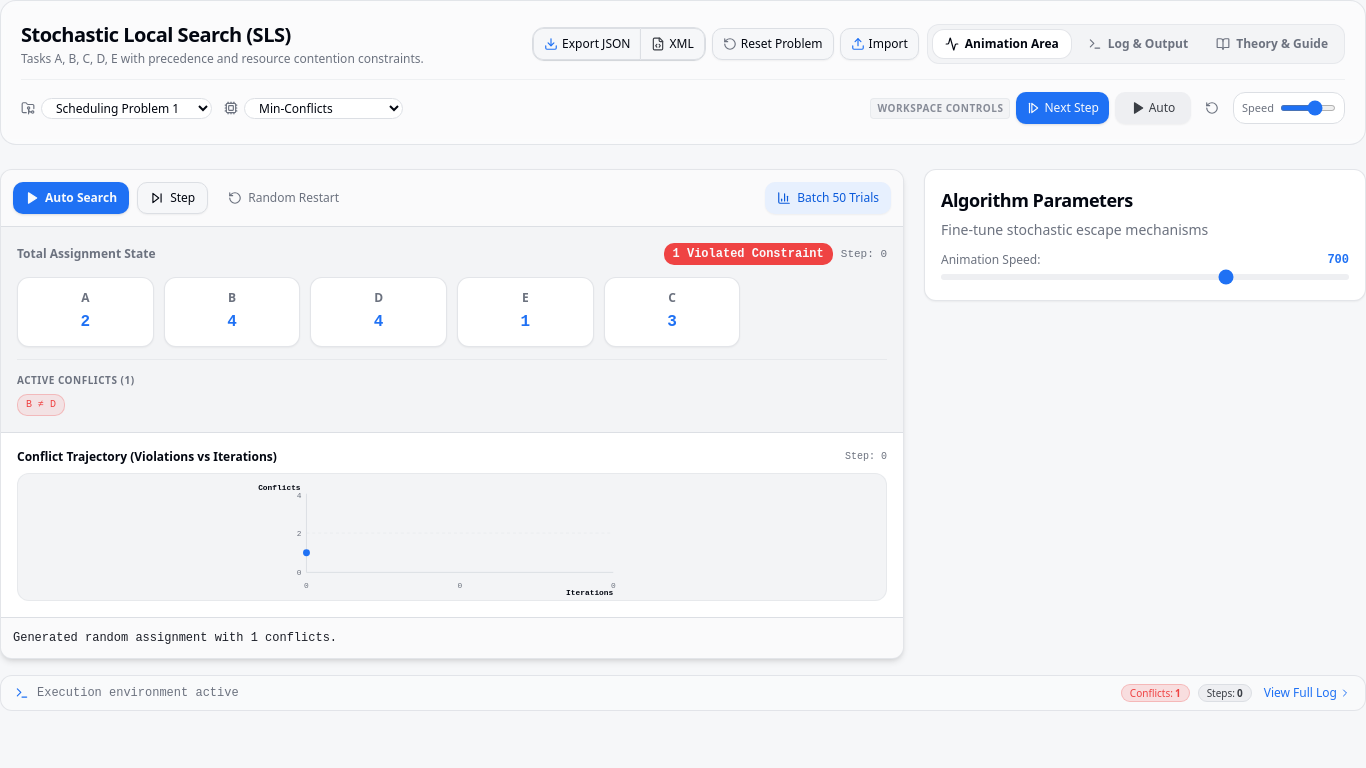
AI Playground Consistent Workspace & Drag-and-Drop Graph Builder › 8. HillTool has consistent header, algorithm options, and pane switching without Coding Area
Expected: the heading "Stochastic Local Search (SLS)" is shown, [21,21,291,48]
Expected: the dropdown named "Select SLS Problem" is shown, [41,98,212,118]
Click the button "Log & Output": (1138, 44) [1076,30,1200,58]
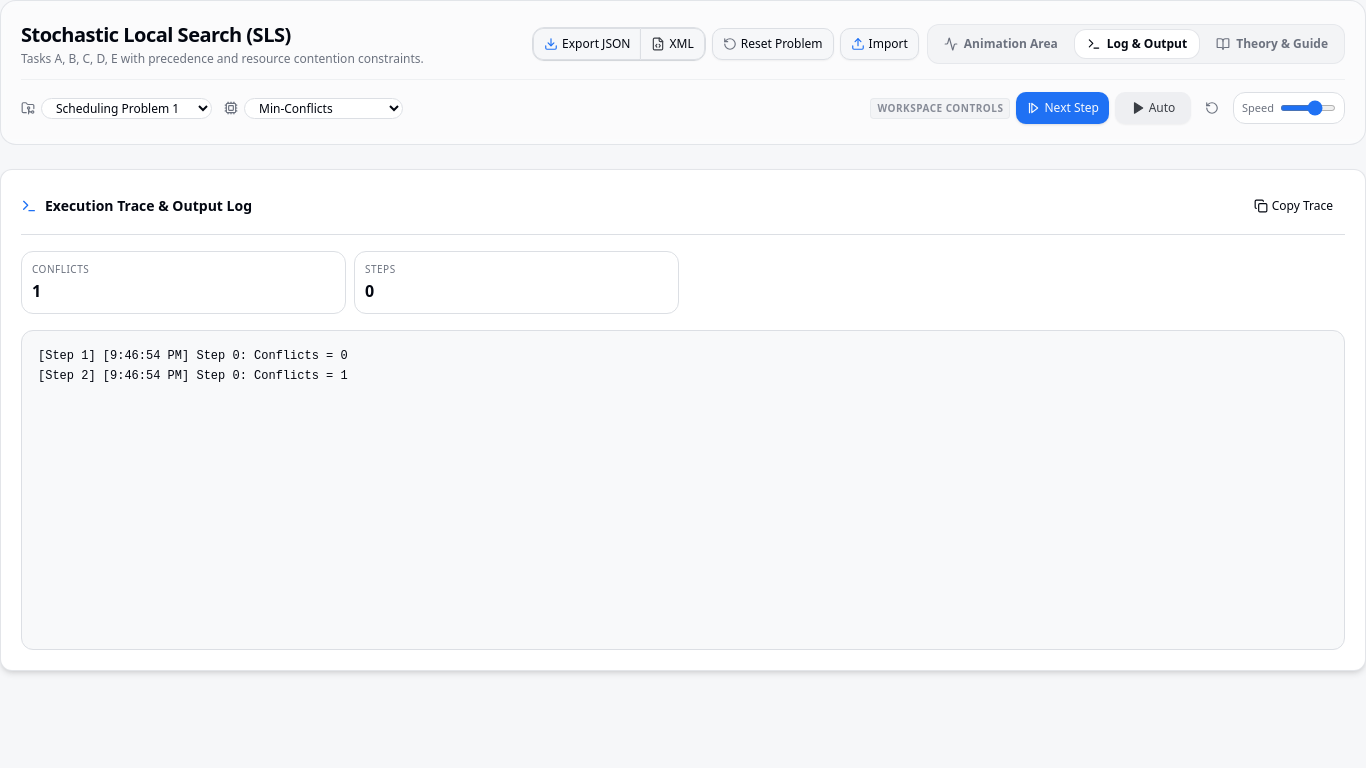
Expected: the heading "Execution Trace & Output Log" is shown, [45,196,252,216]
